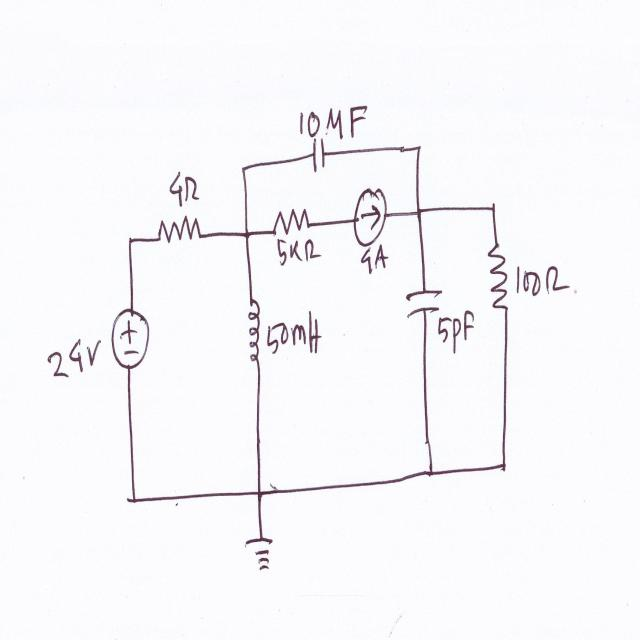capacitor: (404, 284, 442, 328), (310, 133, 331, 177)
current_source: (351, 183, 393, 254)
ground: (243, 528, 282, 587)
inductor: (246, 286, 266, 376)
resistor: (153, 212, 208, 256), (489, 237, 512, 319), (269, 202, 313, 243)
voltage_source: (110, 306, 153, 375)
